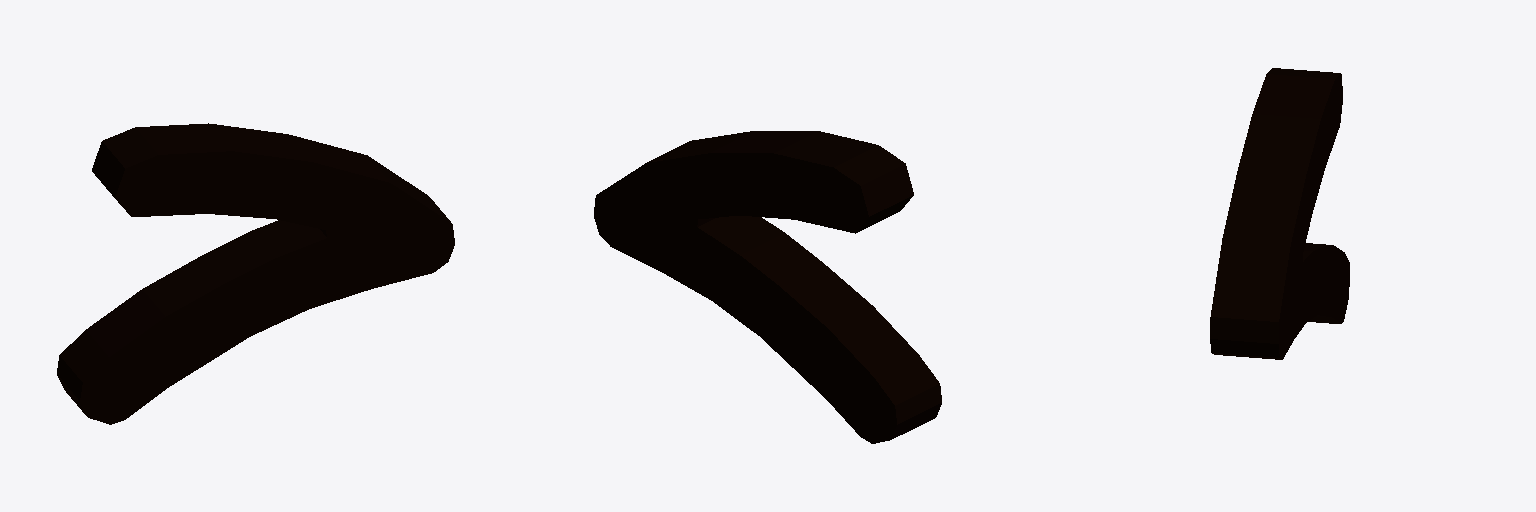
The model's file is warai_me2.obj.
The picture shows the model from 3 angles: view 1: azimuth 30°, elevation 25°; view 2: azimuth 150°, elevation 25°; view 3: azimuth 270°, elevation 25°; orthographic projection.
Visible parts, largest first — view 1: 立方体.012; view 2: 立方体.012; view 3: 立方体.012.
Boxes of the visible parts, x1,y1,x2,y2 form: 立方体.012: [57, 123, 454, 424]; 立方体.012: [594, 131, 941, 443]; 立方体.012: [1210, 68, 1349, 359].
Size of the model in its own units: 0.5807 by 0.416 by 0.201.